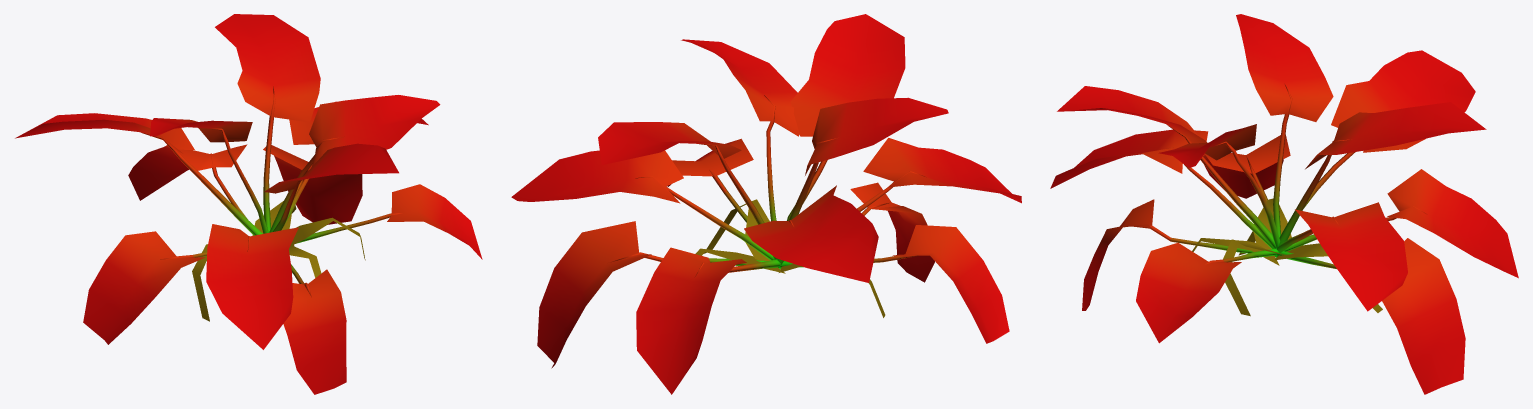
The model's file is Xanadu_LOD2_Var3_siroZ.fbx.
3 renders of one model, left to right at view 1: azimuth 30°, elevation 25°; view 2: azimuth 150°, elevation 25°; view 3: azimuth 270°, elevation 25°, orthographic. The views are drawn at different scales.
Visible parts, largest first — view 1: _2523_Var3_LOD2; view 2: _2523_Var3_LOD2; view 3: _2523_Var3_LOD2.
Part boxes in pixels (left/top/right/bottom): _2523_Var3_LOD2: left=15, top=14, right=482, bottom=394; _2523_Var3_LOD2: left=511, top=14, right=1021, bottom=394; _2523_Var3_LOD2: left=1050, top=14, right=1518, bottom=394.
Size of the model in its own units: 48.94 by 28.08 by 48.12.
